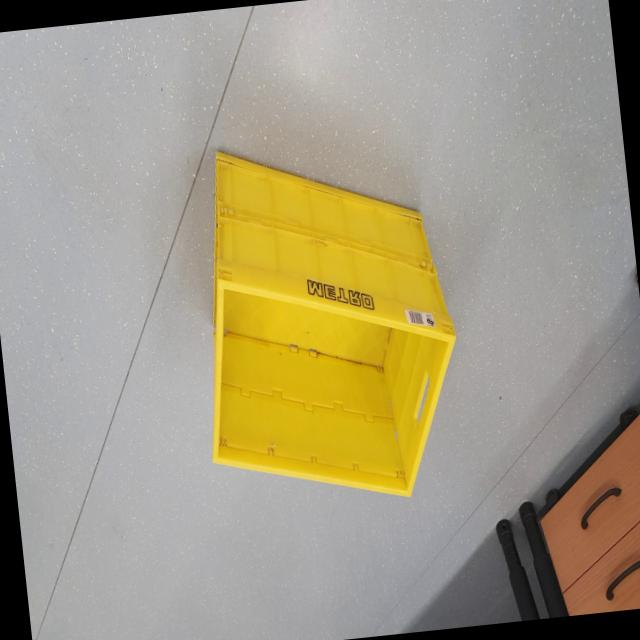box: (160, 104, 501, 529)
